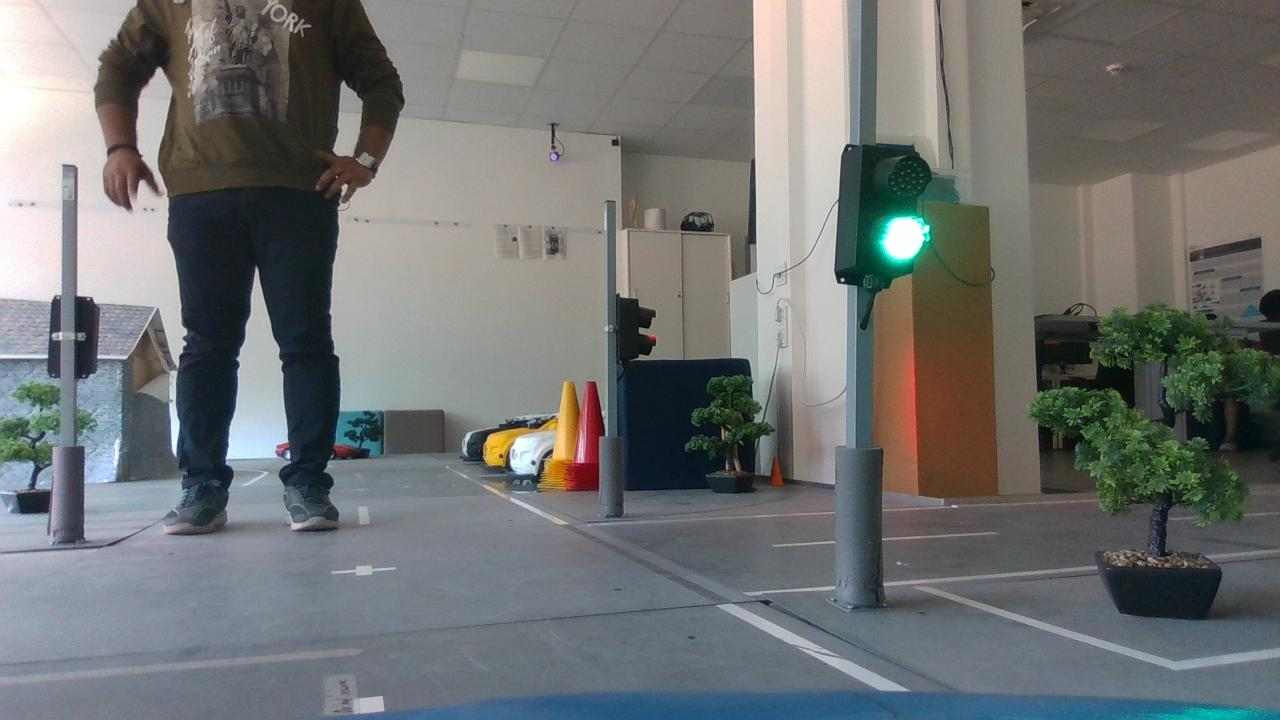traffic_light_green: (826, 132, 940, 296)
